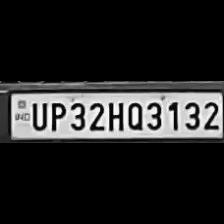1: (163, 99, 179, 130)
2: (200, 97, 220, 130), (87, 98, 105, 132)
3: (68, 99, 86, 131), (145, 99, 163, 131), (182, 99, 200, 131)
H: (104, 99, 124, 131)
P: (47, 100, 65, 132)
Q: (124, 99, 144, 130)
U: (28, 99, 46, 130)
